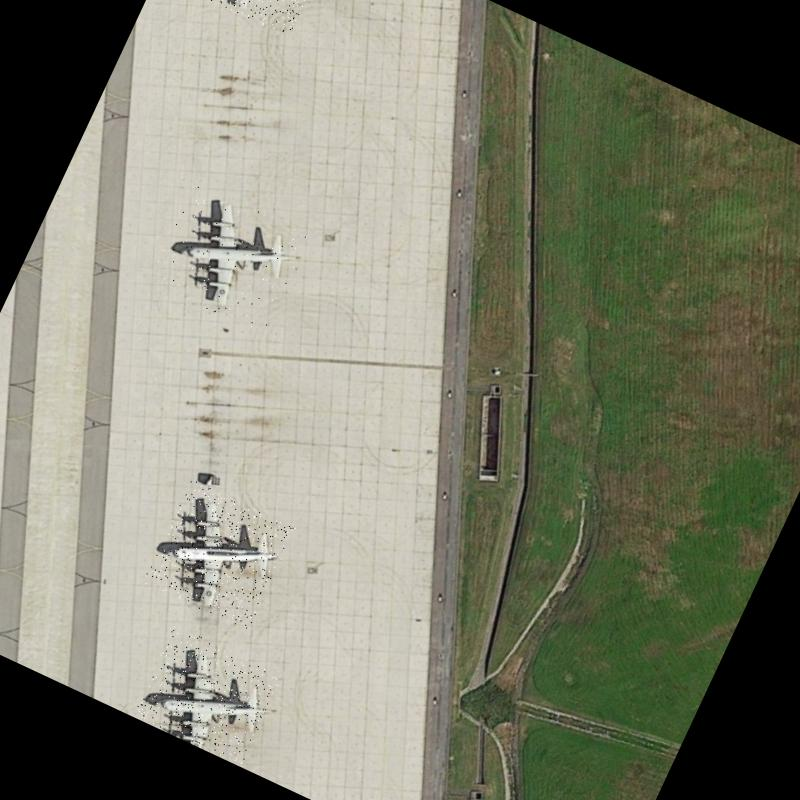A9: (147, 181, 308, 334), (142, 479, 295, 631), (132, 624, 282, 766), (171, 0, 334, 36)
